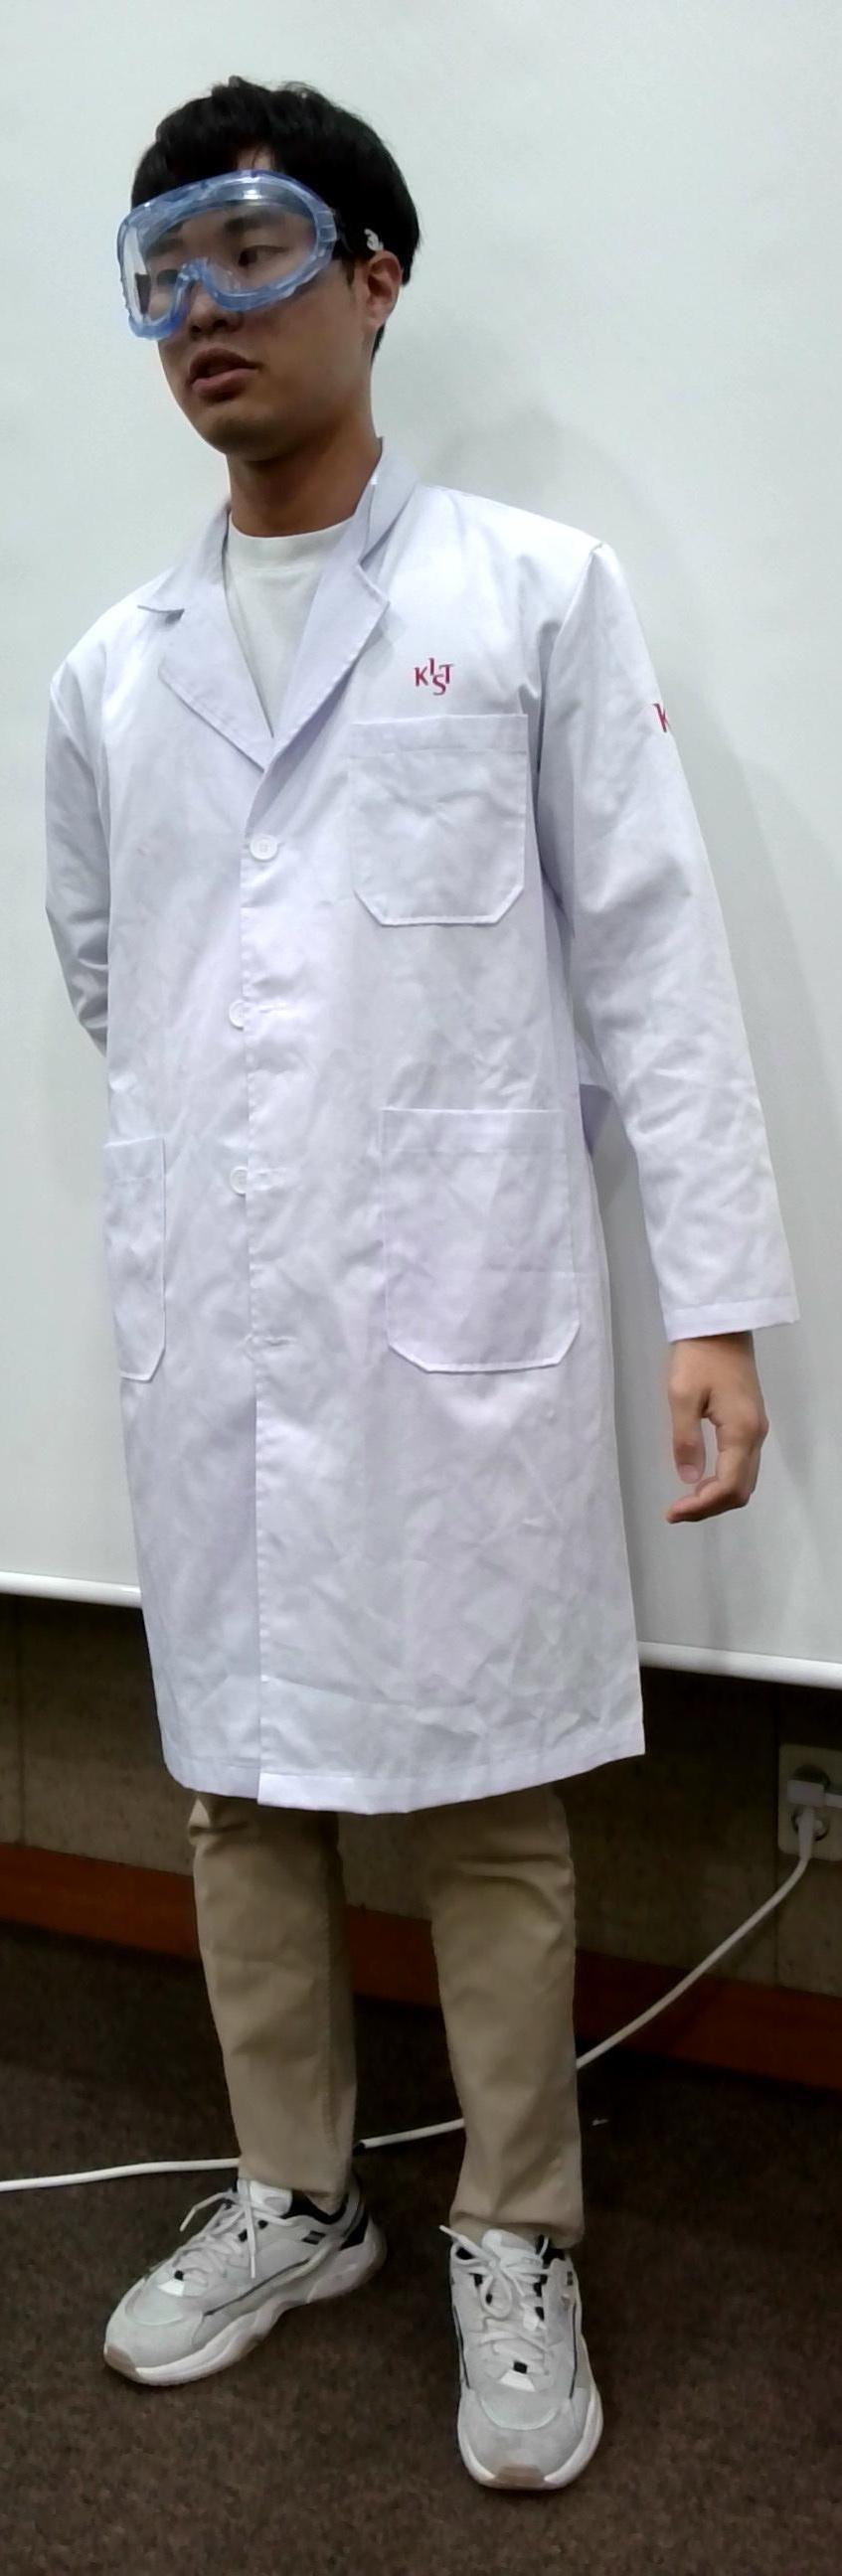lab_coat: (23, 562, 643, 1796)
